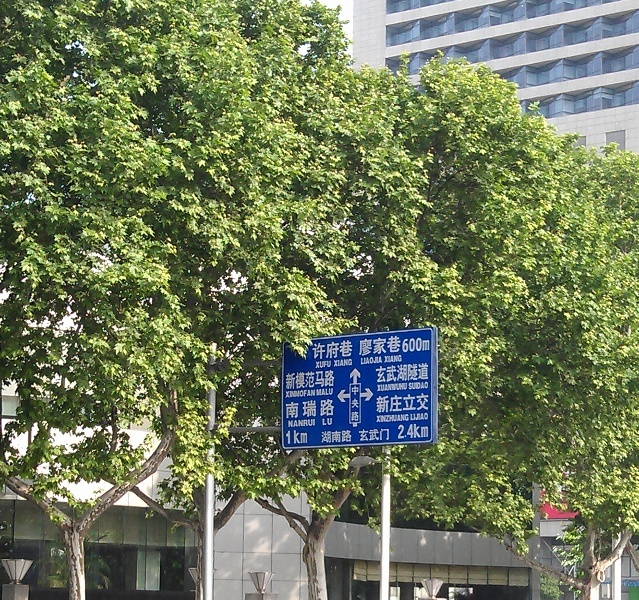text: (289, 369, 304, 391), (305, 369, 320, 391), (321, 369, 336, 391), (385, 392, 400, 414), (401, 392, 416, 414), (369, 335, 384, 357), (385, 335, 400, 357), (337, 340, 353, 360), (385, 362, 400, 383), (401, 362, 416, 383), (321, 340, 336, 360), (289, 399, 304, 419), (305, 399, 320, 419), (417, 392, 430, 414), (321, 399, 335, 419), (417, 362, 430, 383), (401, 423, 416, 440), (353, 386, 360, 422), (289, 429, 304, 445), (417, 423, 431, 440), (402, 337, 416, 354), (417, 337, 431, 354), (321, 430, 336, 445), (337, 430, 352, 445), (369, 428, 384, 443), (359, 335, 368, 357), (376, 392, 384, 414), (376, 362, 384, 383), (312, 340, 320, 360), (337, 358, 352, 368), (289, 389, 304, 399), (385, 383, 400, 393), (289, 419, 304, 429), (385, 414, 400, 423), (359, 428, 368, 443), (369, 356, 383, 365), (322, 418, 336, 427), (385, 355, 400, 363), (321, 388, 334, 397), (305, 389, 316, 399), (305, 419, 316, 429), (417, 413, 429, 422), (417, 382, 430, 390), (385, 428, 391, 443), (321, 361, 332, 369), (401, 414, 410, 423), (377, 383, 384, 393), (401, 383, 408, 393), (305, 429, 309, 445), (408, 382, 416, 390), (361, 356, 368, 365), (377, 414, 384, 423), (410, 413, 416, 422), (397, 423, 400, 440), (286, 369, 288, 391), (286, 399, 288, 419), (286, 429, 288, 445), (316, 361, 320, 369), (333, 358, 336, 368), (285, 389, 288, 399), (317, 388, 320, 397), (401, 335, 402, 357), (401, 355, 403, 363), (353, 430, 354, 445), (353, 358, 354, 368)
